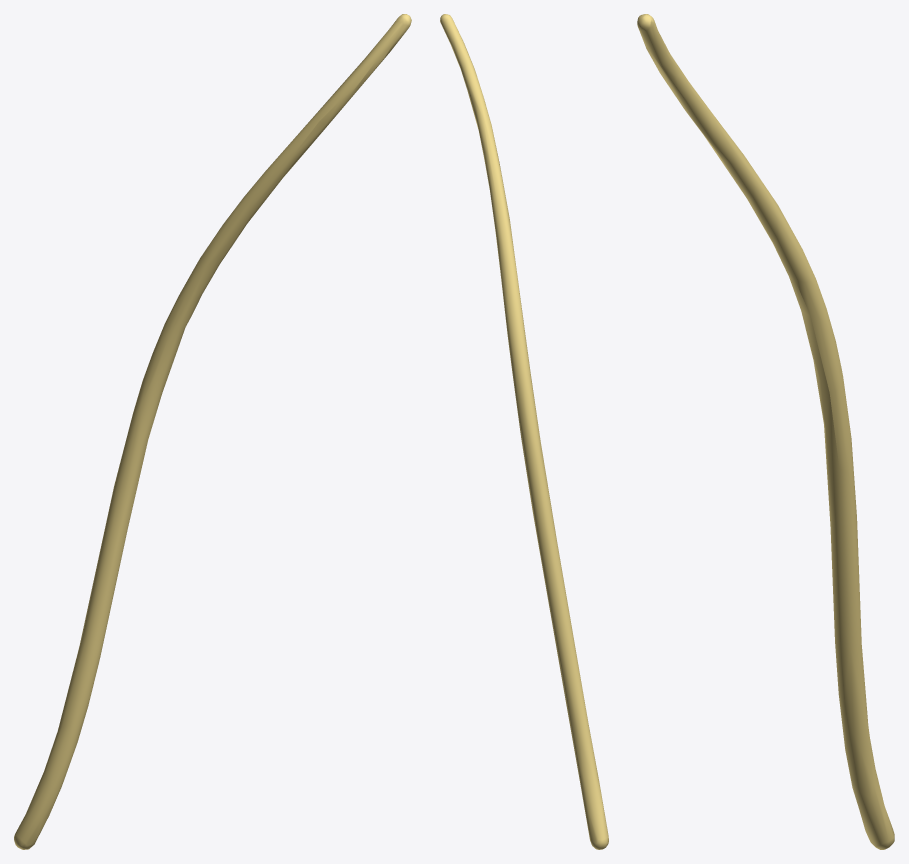
The model's file is fma52773_fj3999.glb.
3 renders of one model, left to right at view 1: azimuth 30°, elevation 25°; view 2: azimuth 150°, elevation 25°; view 3: azimuth 270°, elevation 25°, orthographic. The views are drawn at different scales.
Parts seen in each view (by area): view 1: FMA52773_FJ3999; view 2: FMA52773_FJ3999; view 3: FMA52773_FJ3999.
Boxes of the visible parts, x1,y1,x2,y2 form: FMA52773_FJ3999: (14, 14, 411, 849); FMA52773_FJ3999: (440, 14, 608, 849); FMA52773_FJ3999: (637, 14, 894, 849).
Size of the model in its own units: 0.00891 by 0.0242 by 0.00566.
